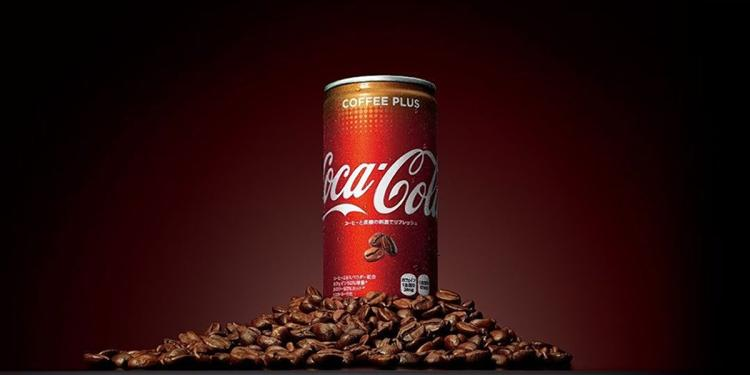coke: (325, 77, 439, 296)
